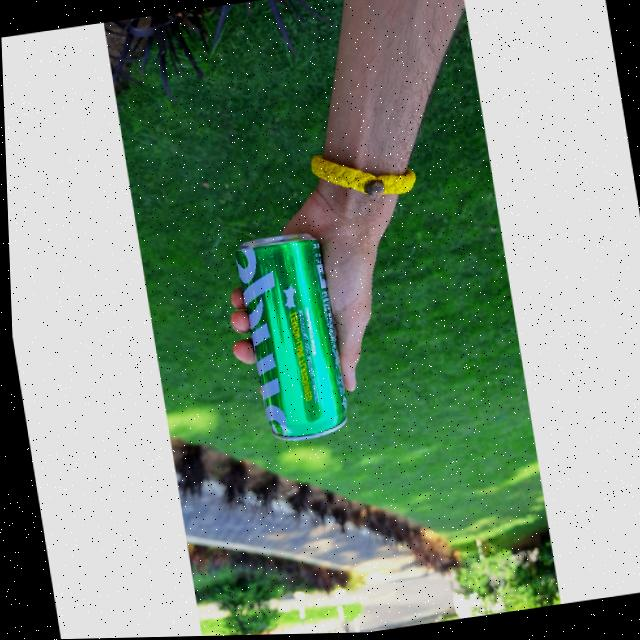Sprite: (234, 230, 345, 442)
